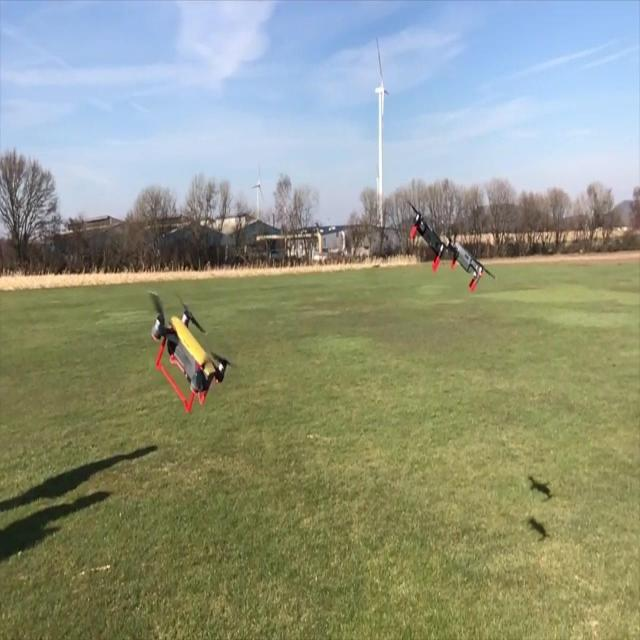UAV: (147, 290, 235, 413), (406, 199, 448, 273), (446, 235, 496, 292)
